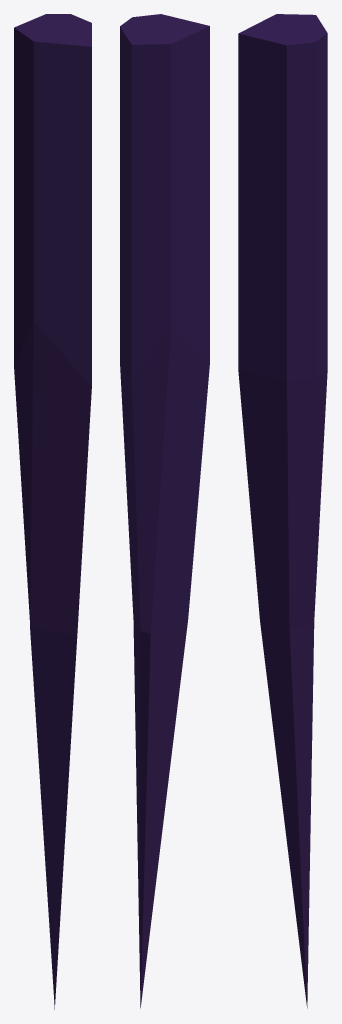
Rendered from stalactite_002_grp.fbx.
3 renders of one model, left to right at view 1: azimuth 90°, elevation 25°; view 2: azimuth 150°, elevation 25°; view 3: azimuth 330°, elevation 25°, orthographic.
Visible parts, largest first — view 1: stalactite_002_grp; view 2: stalactite_002_grp; view 3: stalactite_002_grp.
Part boxes in pixels (x1,y1,x2,y2): stalactite_002_grp: [14, 14, 91, 1009]; stalactite_002_grp: [120, 14, 209, 1008]; stalactite_002_grp: [238, 14, 327, 1008].
Size of the model in its own units: 50 by 700 by 50.
